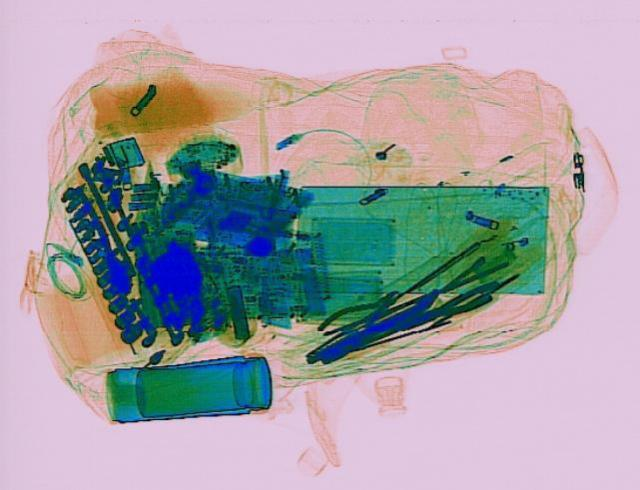Pliers: (308, 279, 412, 346), (396, 275, 506, 334)
